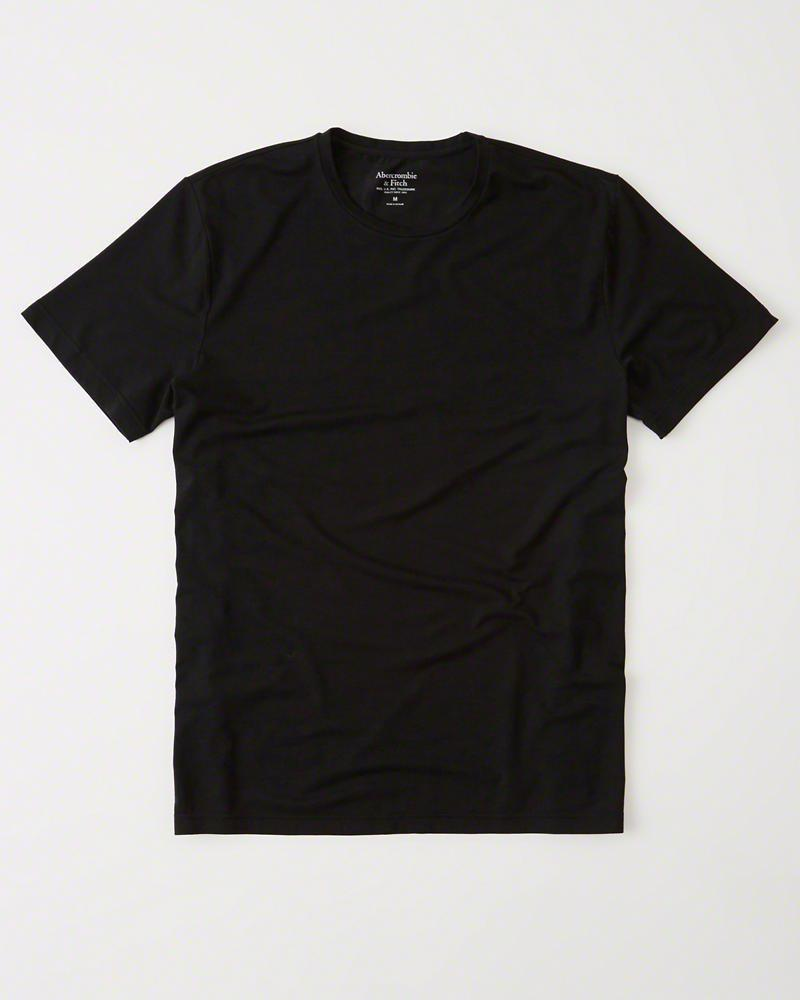teeshirt: (12, 115, 800, 858)
